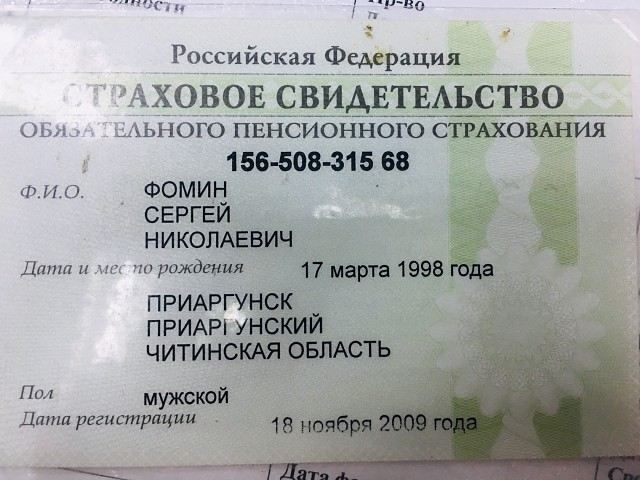text: (135, 285, 396, 365), (267, 409, 484, 438), (222, 144, 419, 174), (297, 257, 497, 283), (136, 225, 297, 252), (136, 381, 236, 408), (139, 176, 237, 203), (139, 201, 240, 225)
